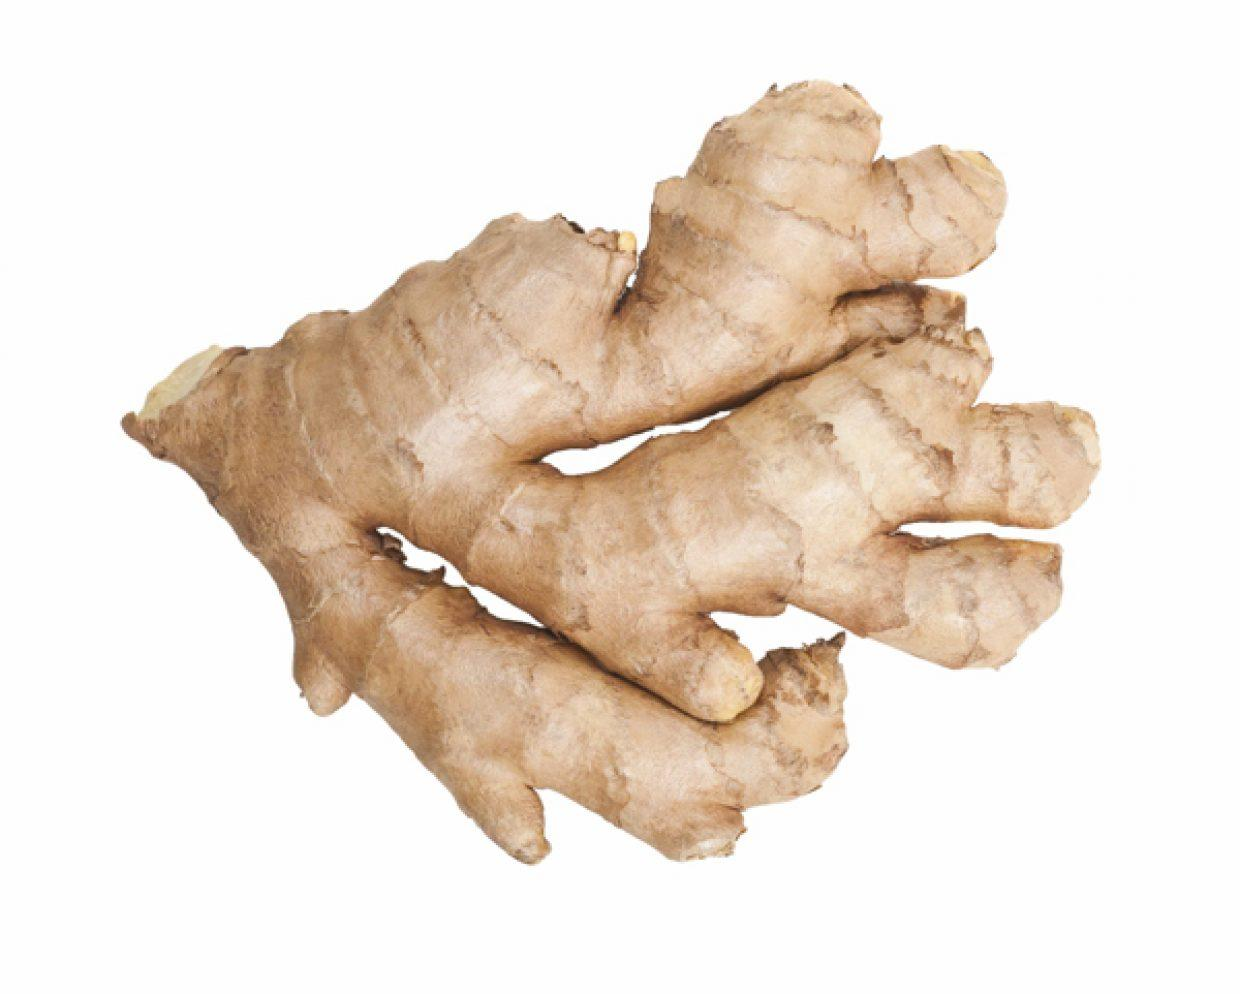ginger: (120, 76, 1101, 865), (398, 304, 1101, 724)
